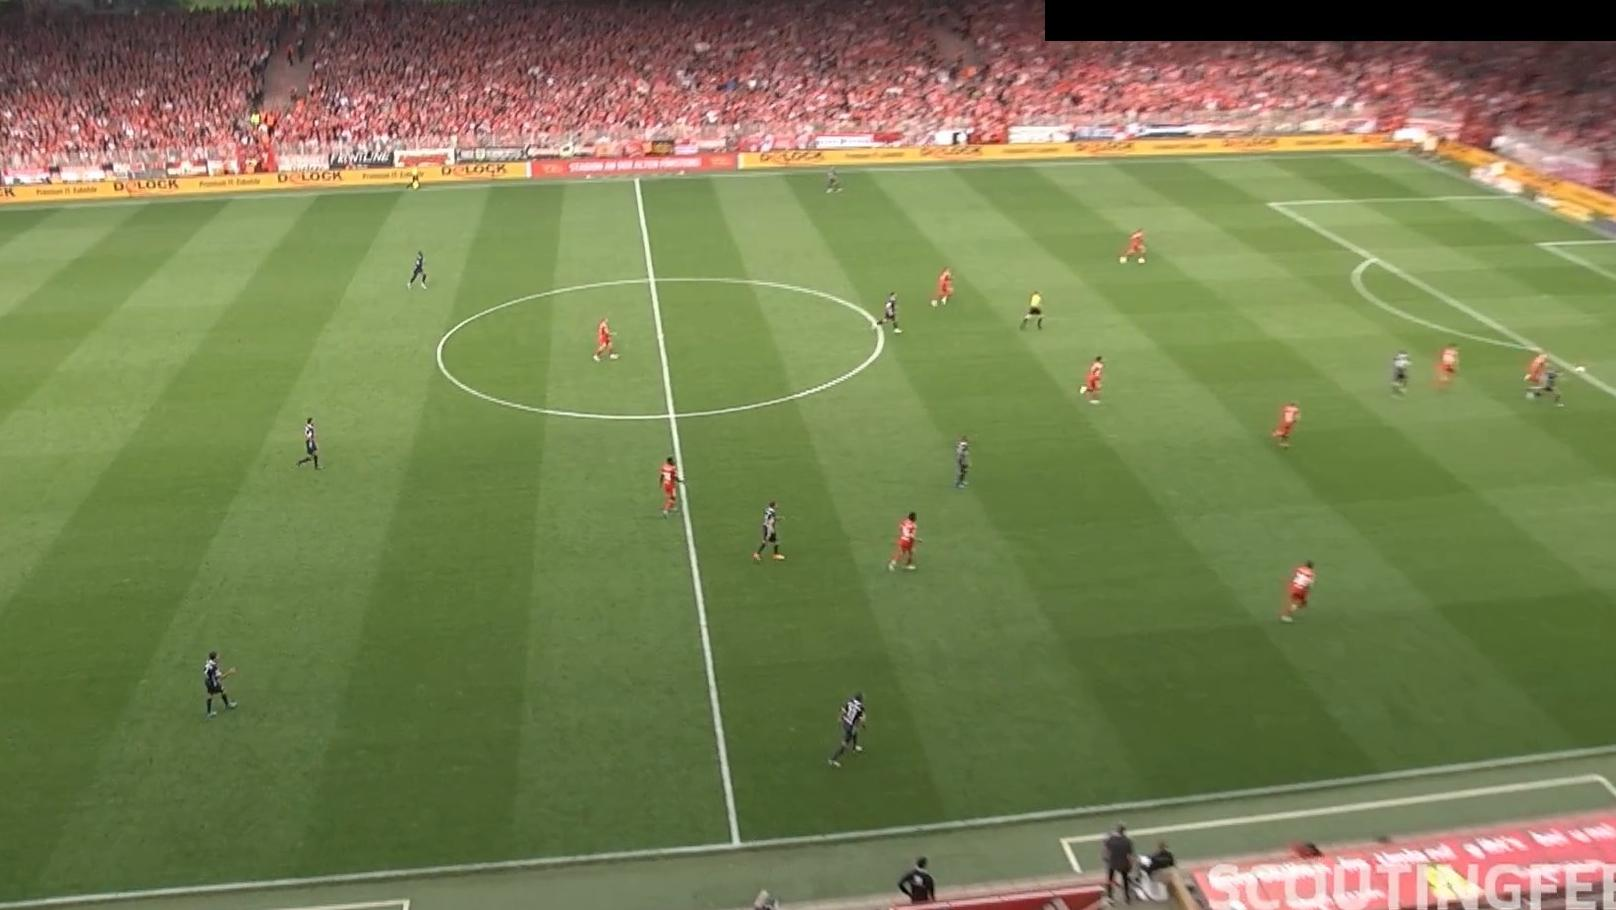ball: (1572, 364, 1588, 375)
